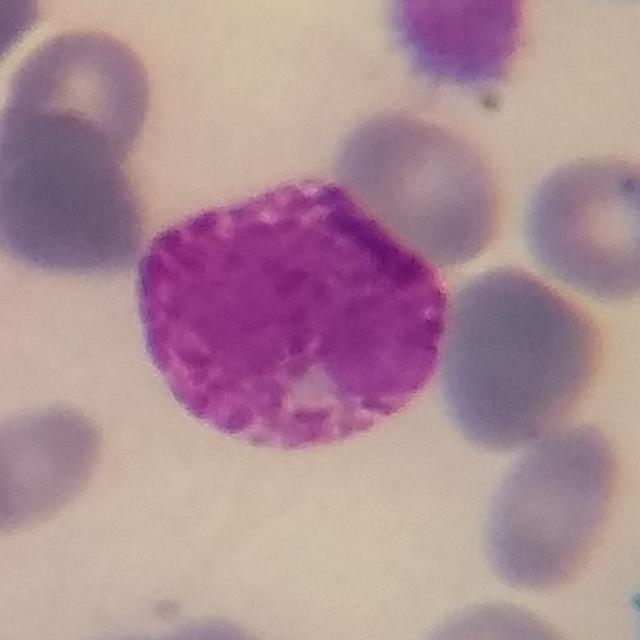baso: (128, 170, 455, 459)
